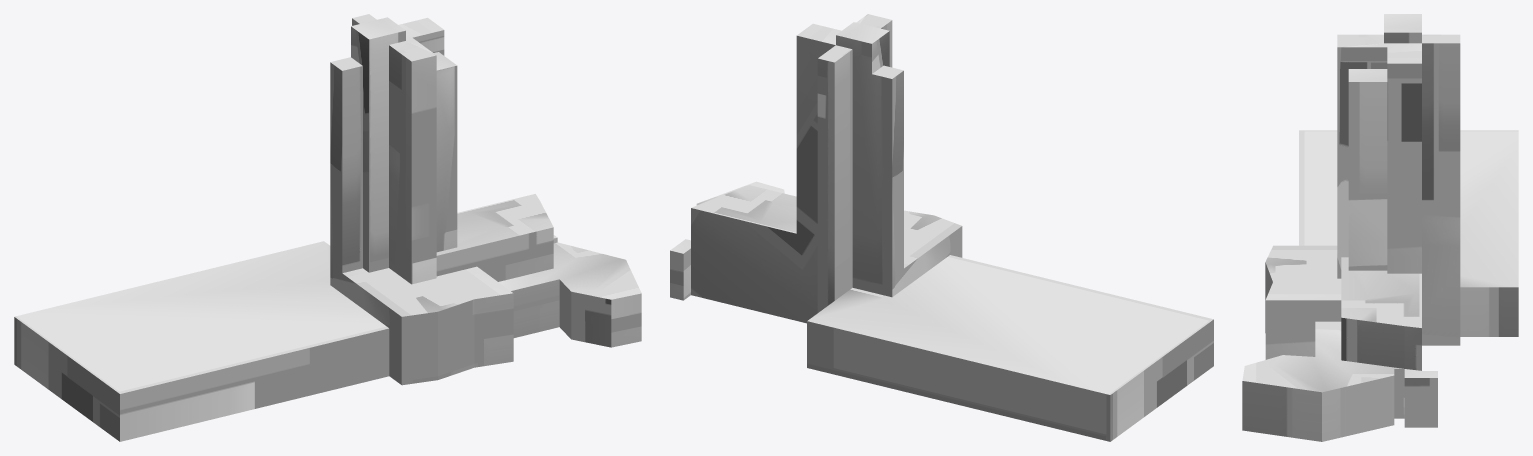
The model's file is grashof1.1.dae.
The picture shows the model from 3 angles, left to right: view 1: azimuth 30°, elevation 25°; view 2: azimuth 150°, elevation 25°; view 3: azimuth 270°, elevation 25°; orthographic projection. The views are drawn at different scales.
Visible parts, largest first — view 1: Mesh_001; view 2: Mesh_001; view 3: Mesh_001.
Part boxes in pixels (x1,y1,x2,y2): Mesh_001: (14,14,641,441); Mesh_001: (670,14,1213,441); Mesh_001: (1242,14,1518,441).
Size of the model in its own units: 26.29 by 11.71 by 14.65.
Materials: 3 (3 with a texture image).
